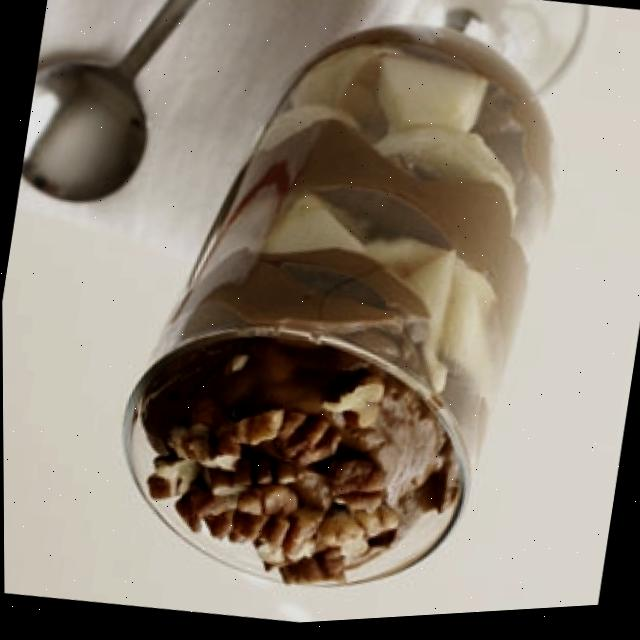蛋糕甜品: (45, 0, 623, 638)
